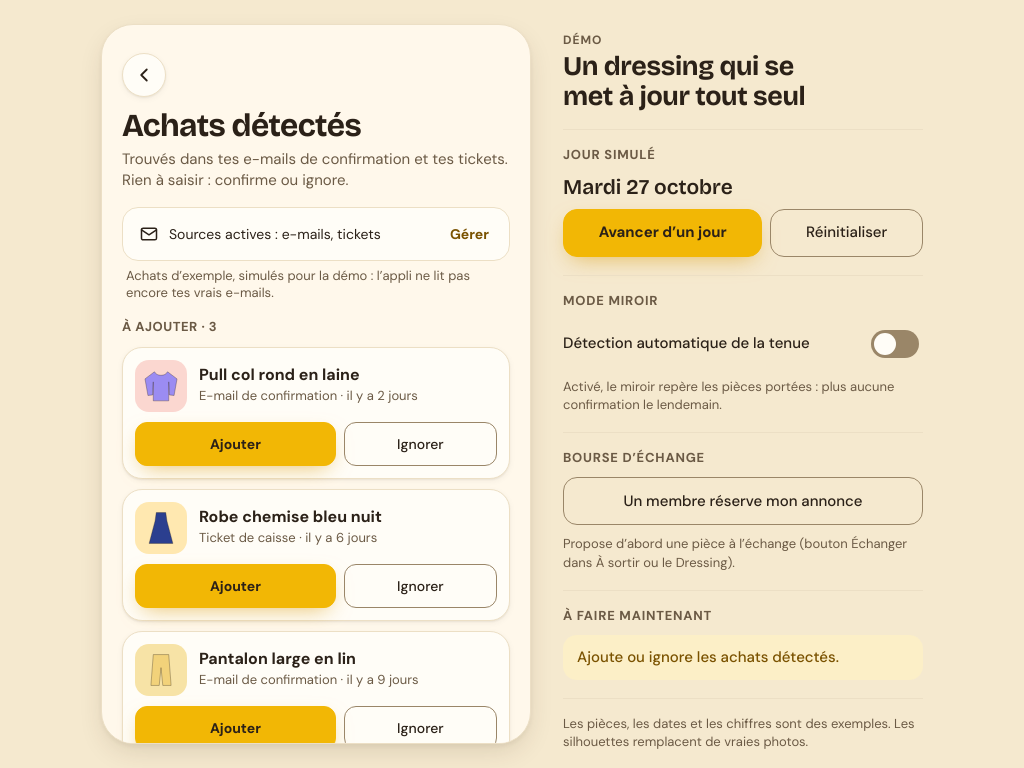
Scenario: Achats détectés › Ignorer retire l’achat sans l’ajouter au dressing
The image size is (1024, 768).
Expected: the heading "Achats détectés" is shown, [122, 106, 361, 145]
Click the button with aria-label "Ignorer Pull col rond en laine" at (420, 444), box [344, 422, 497, 466]
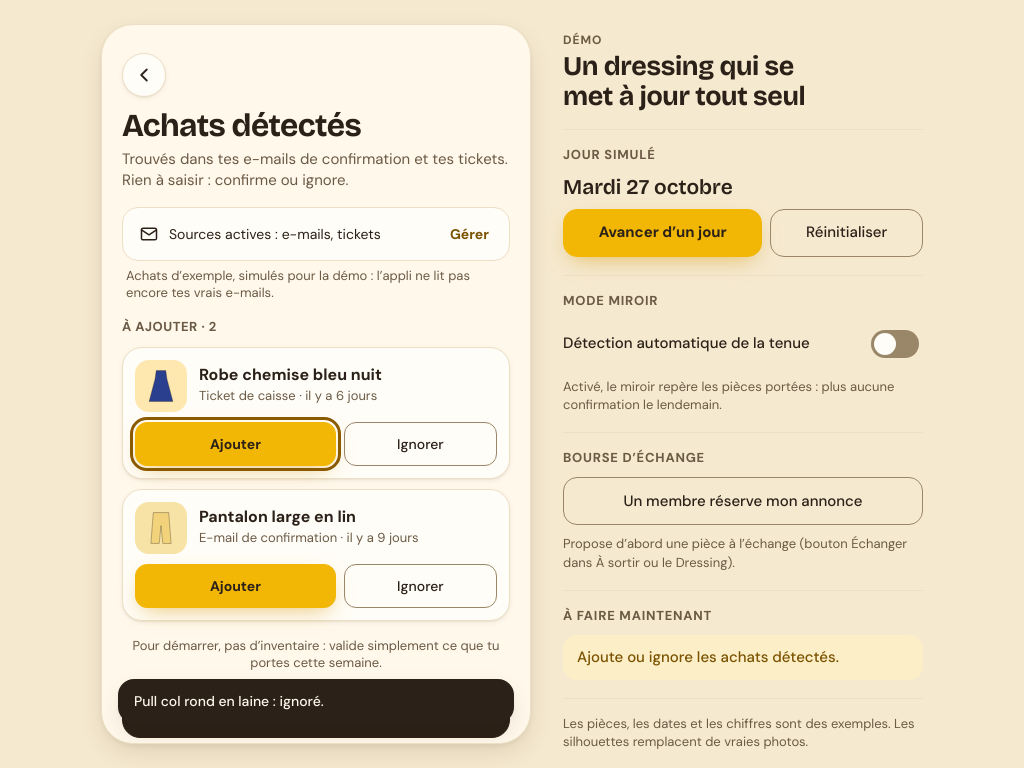
Expected: the text "Pull col rond en laine : ignoré." is shown, [134, 691, 324, 711]
Expected: the heading "À ajouter · 2" is shown, [122, 318, 217, 335]
